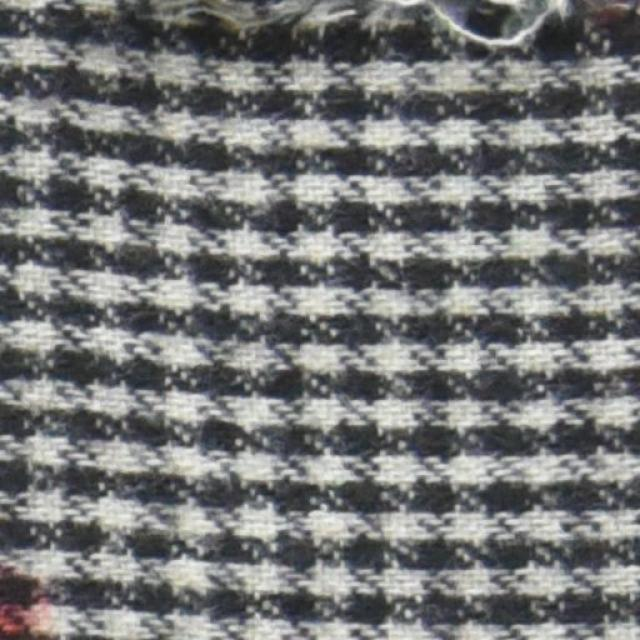Snag: (120, 0, 620, 59)
